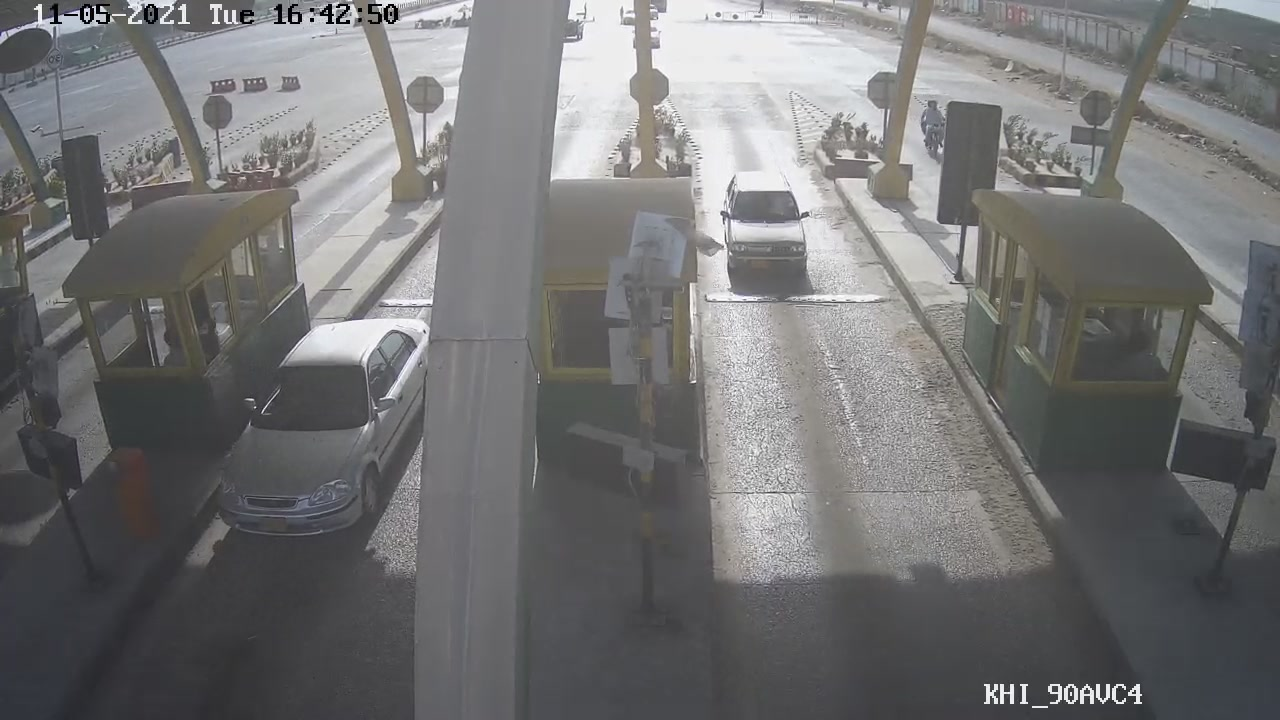F1: (718, 171, 818, 278)
